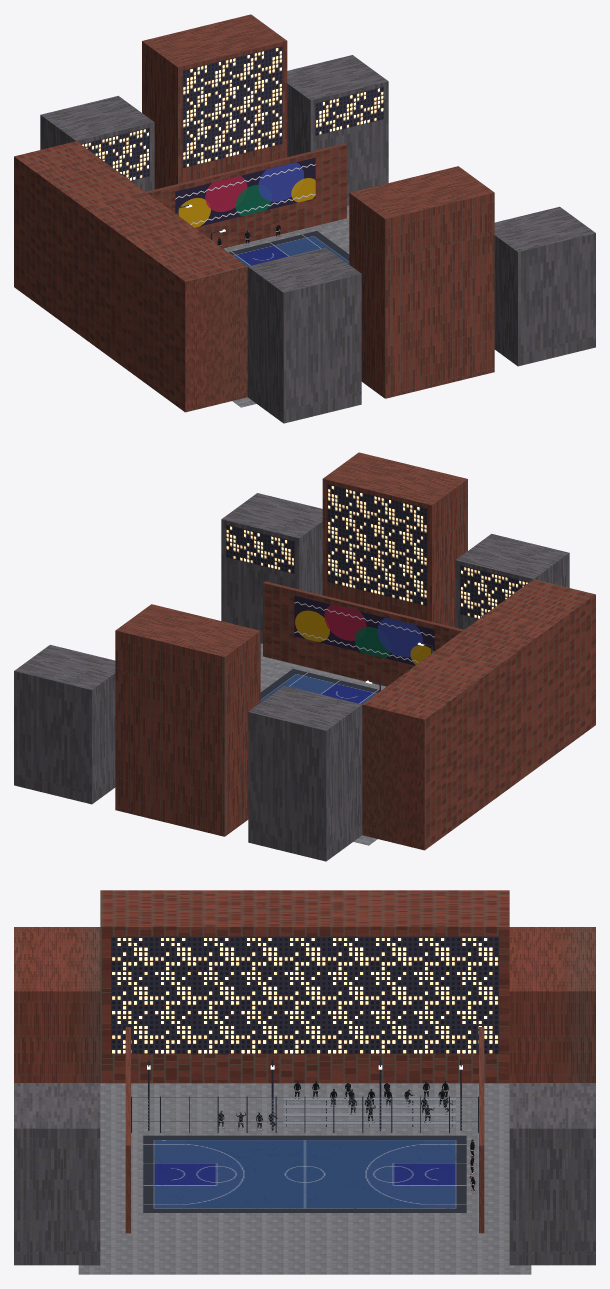
Rendered from court.v2.glb.
3 renders of one model, top to bottom at view 1: azimuth 30°, elevation 25°; view 2: azimuth 150°, elevation 25°; view 3: azimuth 270°, elevation 25°, orthographic. The views are drawn at different scales.
Visible parts, largest first — view 1: far_building, building_1_1, building_1_0, building_1_2, building_0_1, facade_0_1, building_0_2, end_wall_0, mural, building_0_0, facade_0_2, facade_0_0 (+2 smaller); view 2: far_building, building_0_1, building_0_0, building_0_2, building_1_1, facade_1_1, building_1_2, end_wall_1, mural_far, building_1_0, facade_1_2, facade_1_0 (+2 smaller); view 3: paving, far_facade, far_building, court, building_0_2, building_1_2, building_0_1, building_1_1, fence, crowd, end_wall_0, end_wall_1 (+4 smaller).
Boxes of the visible parts, bbox=[...] form: far_building: bbox=[14, 141, 247, 412]; building_1_1: bbox=[349, 166, 494, 398]; building_1_0: bbox=[247, 247, 361, 423]; building_1_2: bbox=[494, 206, 595, 366]; building_0_1: bbox=[142, 14, 287, 189]; facade_0_1: bbox=[182, 46, 282, 168]; building_0_2: bbox=[287, 55, 388, 205]; end_wall_0: bbox=[146, 143, 346, 248]; mural: bbox=[175, 157, 315, 227]; building_0_0: bbox=[40, 95, 154, 191]; facade_0_2: bbox=[315, 86, 383, 135]; facade_0_0: bbox=[81, 127, 149, 180]; far_building: bbox=[362, 579, 595, 850]; building_0_1: bbox=[115, 604, 260, 836]; building_0_0: bbox=[248, 685, 362, 861]; building_0_2: bbox=[14, 644, 115, 804]; building_1_1: bbox=[322, 452, 467, 627]; facade_1_1: bbox=[327, 484, 427, 606]; building_1_2: bbox=[221, 493, 322, 643]; end_wall_1: bbox=[263, 581, 463, 686]; mural_far: bbox=[294, 595, 434, 665]; building_1_0: bbox=[455, 533, 569, 629]; facade_1_2: bbox=[226, 524, 294, 573]; facade_1_0: bbox=[460, 565, 528, 618]; paving: bbox=[78, 1083, 531, 1274]; far_facade: bbox=[111, 936, 498, 1053]; far_building: bbox=[100, 890, 509, 1083]; court: bbox=[143, 1135, 466, 1212]; building_0_2: bbox=[509, 1083, 595, 1265]; building_1_2: bbox=[14, 1083, 100, 1265]; building_0_1: bbox=[509, 927, 595, 1082]; building_1_1: bbox=[14, 927, 100, 1082]; fence: bbox=[132, 1098, 477, 1132]; crowd: bbox=[218, 1081, 475, 1193]; end_wall_0: bbox=[479, 1027, 484, 1233]; end_wall_1: bbox=[125, 1027, 130, 1233].
Bounding box in the file's own units: 50 × 22.01 × 54.
Materials: 13 (10 with a texture image).
